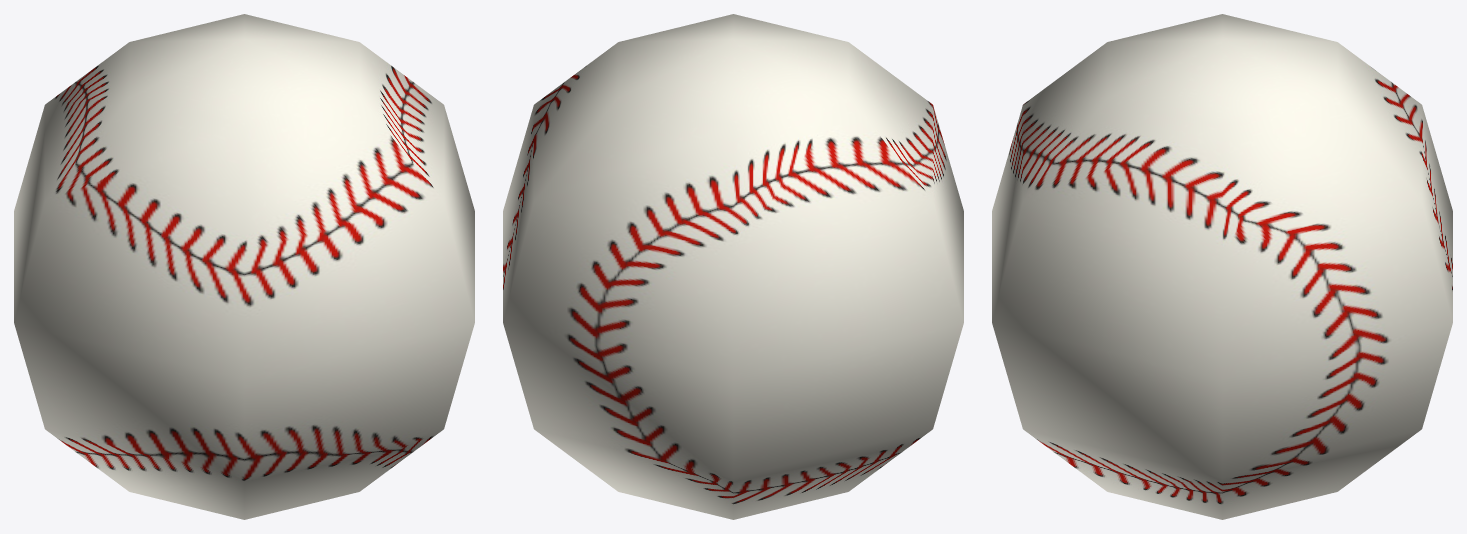
Rendered from BaseBall.fbx.
3 views of the same model, side by side, from view 1: azimuth 30°, elevation 25°; view 2: azimuth 150°, elevation 25°; view 3: azimuth 270°, elevation 25° (orthographic).
Visible parts, largest first — view 1: baseball; view 2: baseball; view 3: baseball.
Boxes of the visible parts, left/top/right/bottom form: baseball: left=14, top=14, right=474, bottom=519; baseball: left=503, top=14, right=963, bottom=519; baseball: left=992, top=14, right=1452, bottom=519.
Size of the model in its own units: 0.6 by 0.5654 by 0.5196.
